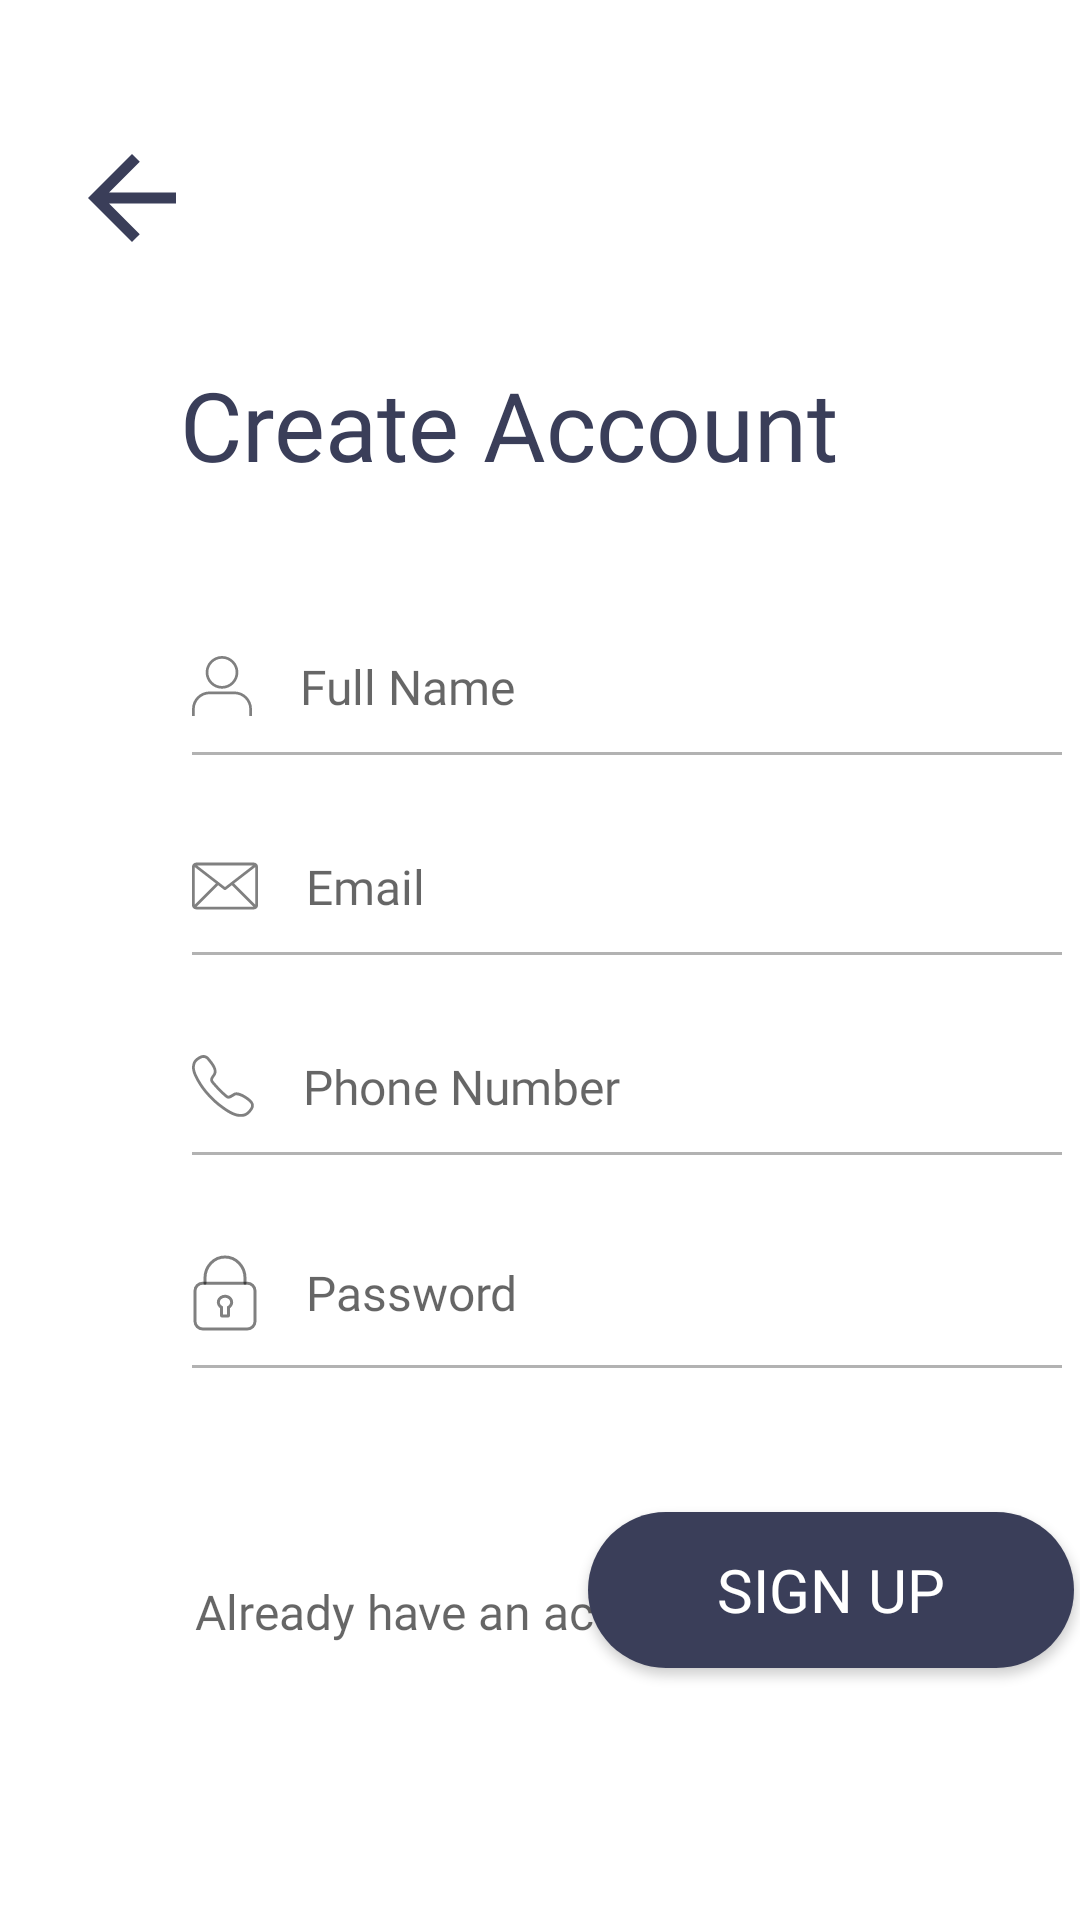

Point at icon controls on the screen. Image size 1080*1920, points as (x,y).
arrow back: (132,198)
